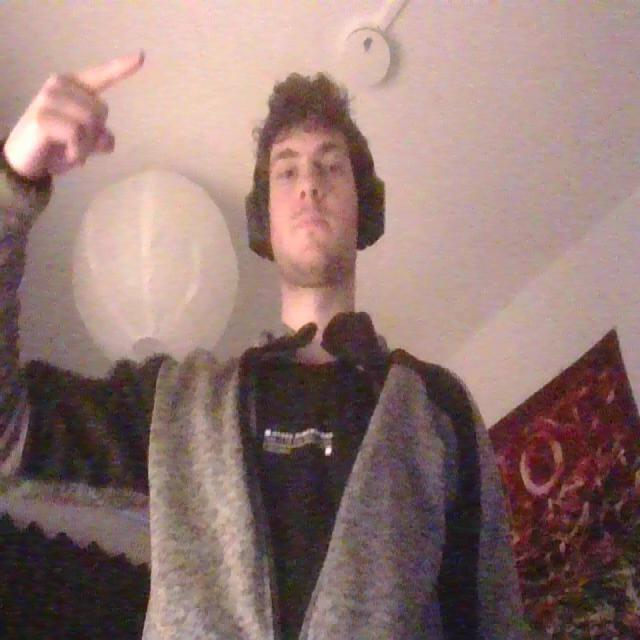right: (0, 41, 149, 179)
